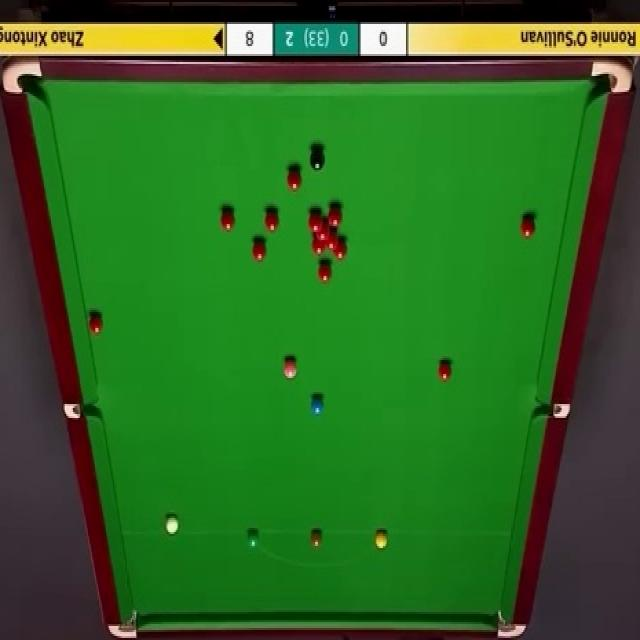pocket: (1, 55, 43, 97), (592, 58, 632, 96), (106, 609, 140, 640), (499, 605, 529, 640), (532, 403, 571, 422), (63, 405, 96, 417)
